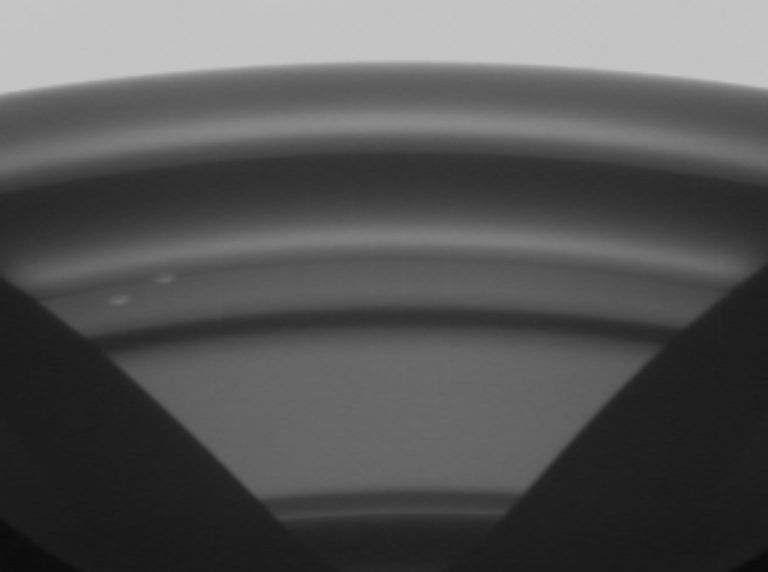defect: (102, 286, 147, 317)
